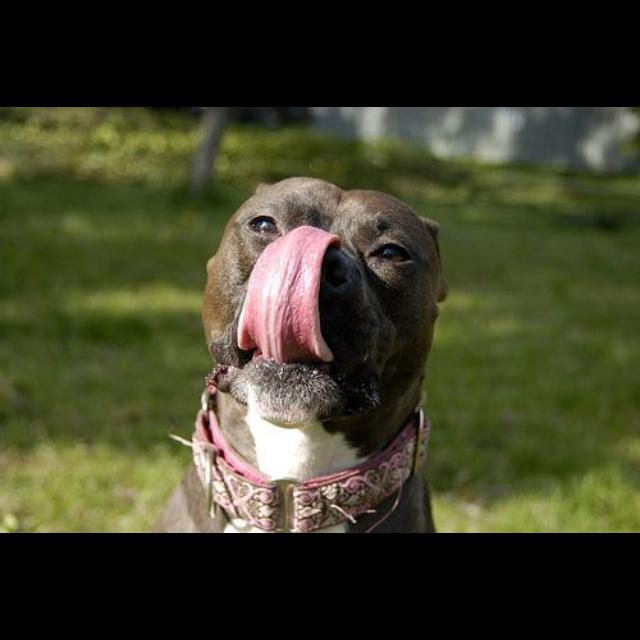amstaff: (148, 176, 450, 533)
